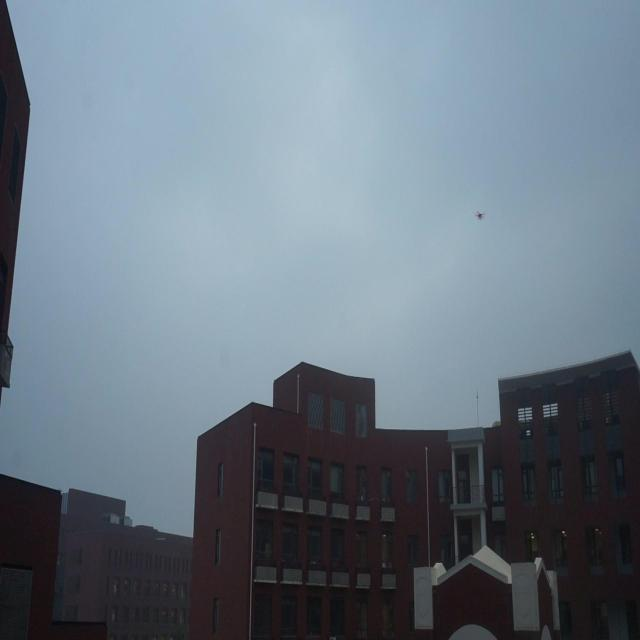drone: (476, 208, 484, 224)
